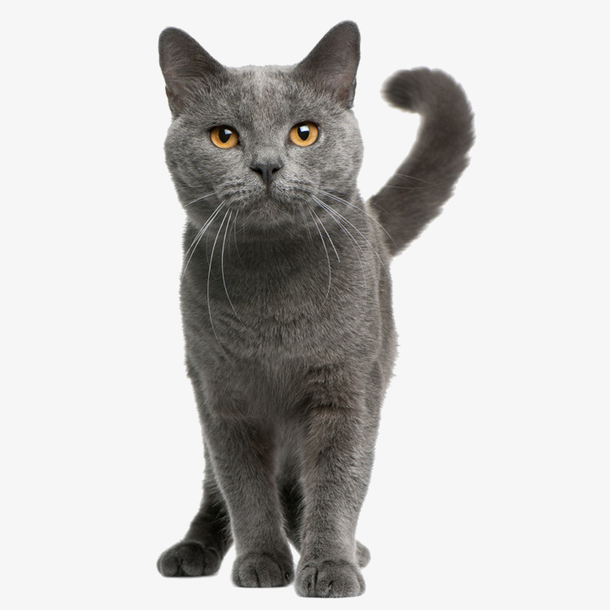cat: (154, 20, 476, 599)
